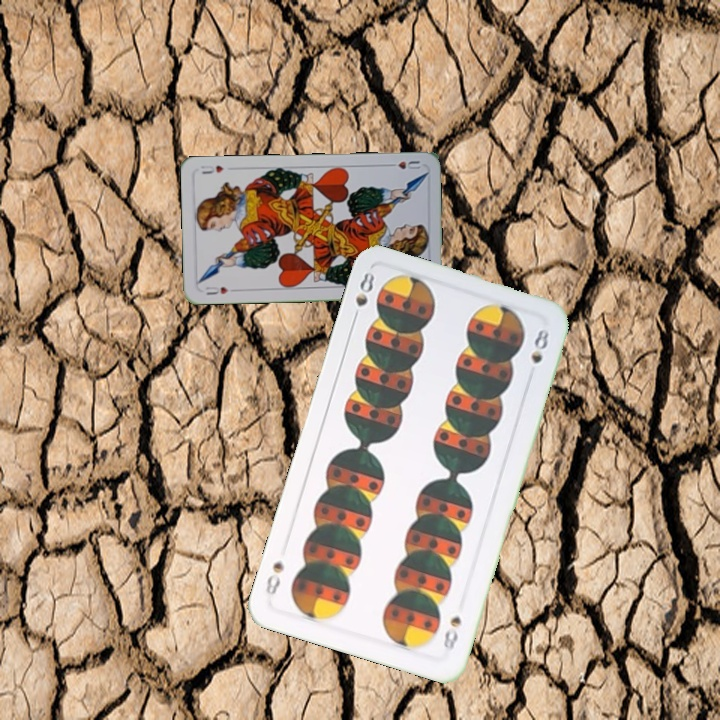HU: (384, 157, 423, 172), (202, 282, 231, 298)
S8: (348, 267, 377, 325), (439, 612, 464, 654)
